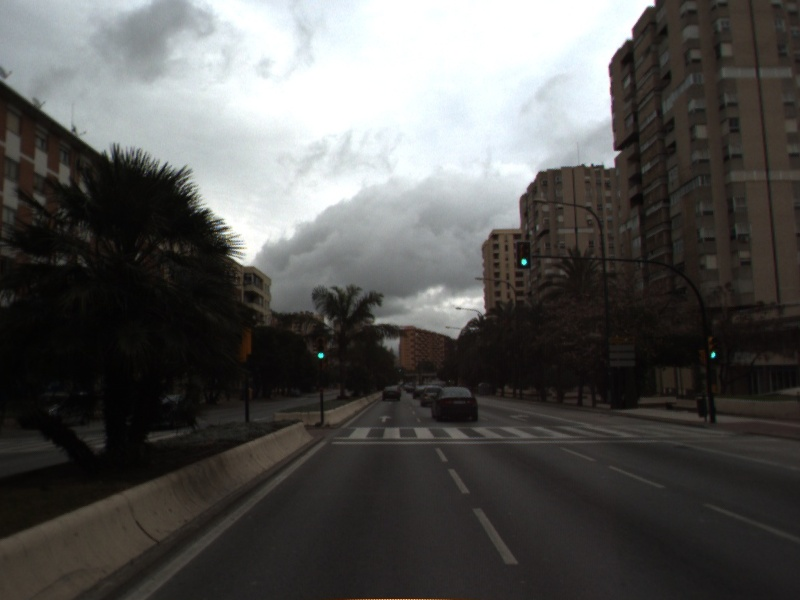RIGHT: (508, 411, 533, 424)
STRAIGHT: (376, 413, 394, 424)
